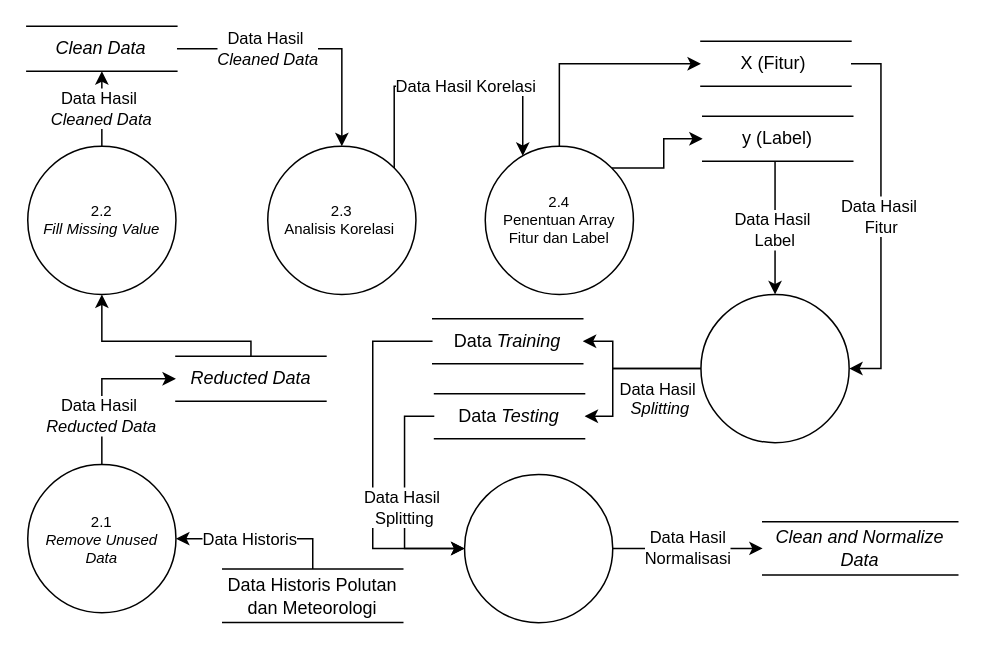
Image size: 984x650. Some labels were removed from this diagram. Here are the shapes that lost their labels. From the top down, the centre of each, then its label:
At (x=774, y=368): "2.5 Splitting Data".
At (x=538, y=548): "2.6 Feature Scaling".
